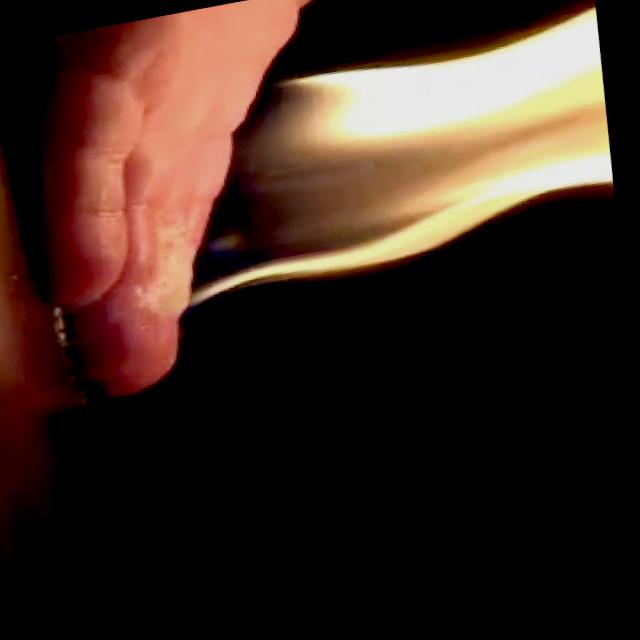helmet: (115, 2, 633, 326)
